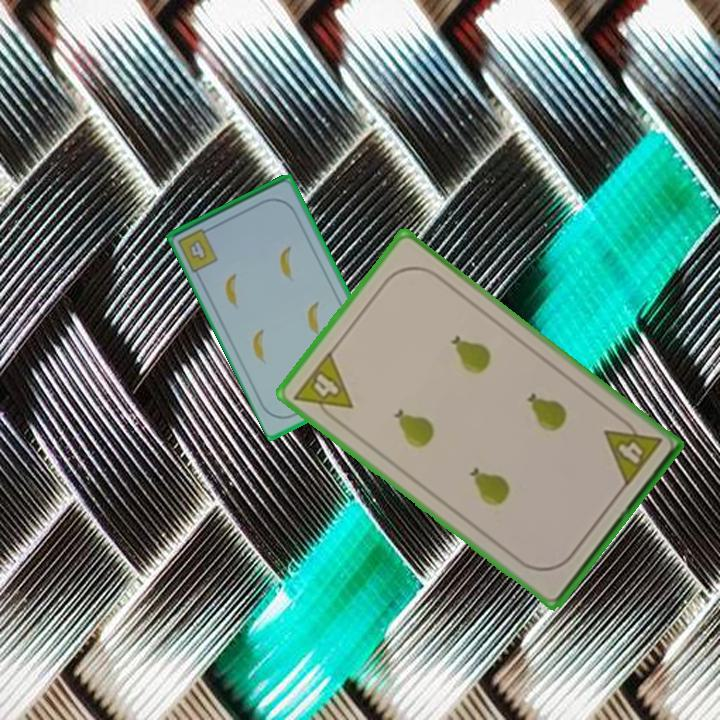4b: (174, 223, 221, 275)
4p: (289, 347, 356, 428), (600, 412, 664, 490)
